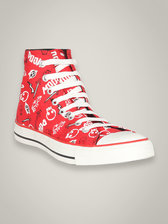shoes: (14, 44, 156, 166)
